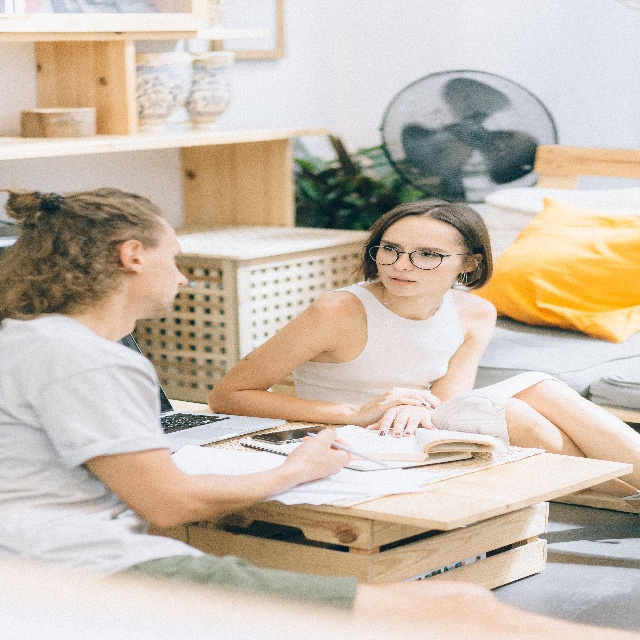Sin_guantes: (281, 426, 353, 488), (364, 386, 442, 427), (363, 402, 437, 437)
